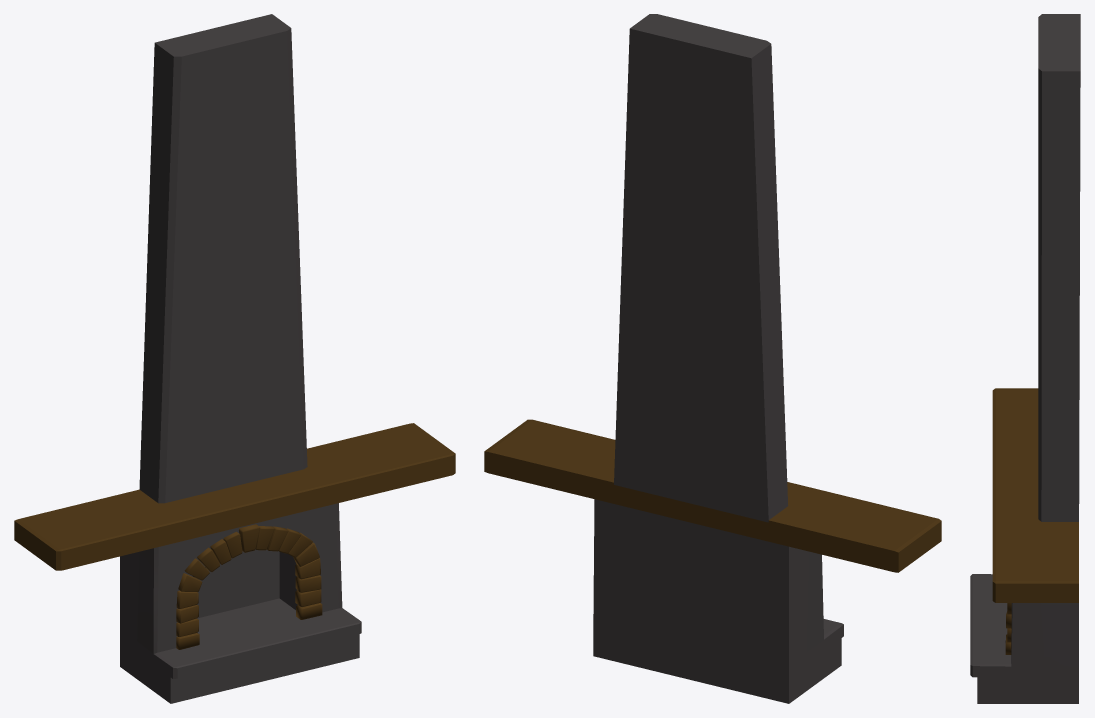
File: SM_Fireplace.fbx
The picture shows the model from 3 angles, left to right: view 1: azimuth 30°, elevation 25°; view 2: azimuth 150°, elevation 25°; view 3: azimuth 270°, elevation 25°; orthographic projection. The views are drawn at different scales.
Visible parts, largest first — view 1: SM_fireplace, SM_topplank, SM_arch; view 2: SM_fireplace, SM_topplank; view 3: SM_fireplace, SM_topplank, SM_arch.
Part boxes in pixels (box(x1,y1,x2,y2)): SM_fireplace: box(120, 14, 361, 703); SM_topplank: box(14, 423, 455, 570); SM_arch: box(176, 524, 322, 649); SM_fireplace: box(593, 14, 843, 703); SM_topplank: box(484, 419, 941, 572); SM_fireplace: box(970, 14, 1080, 703); SM_topplank: box(992, 388, 1078, 602); SM_arch: box(1005, 603, 1011, 654).
Bounding box in the file's own units: 383 × 563 × 91.24.
